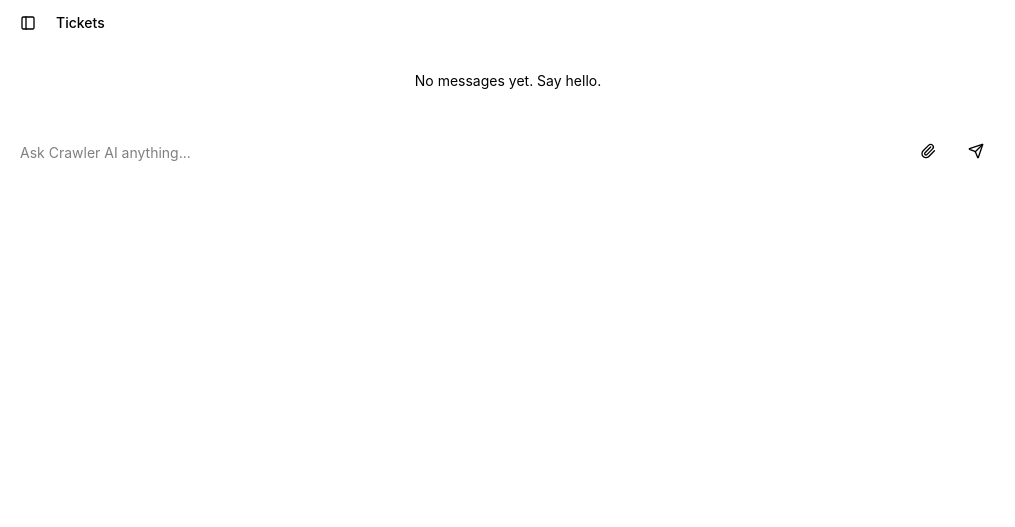
Test: Approval cards on the way to a purchase › shows a browser.act card as its one sentence: no tool line, no JSON, no typed text
The width and height of the screenshot is (1015, 527).
In the text box named "Message": (460, 153) [20,135,900,171], type "Buy a $5 ticket on shop.example.com"
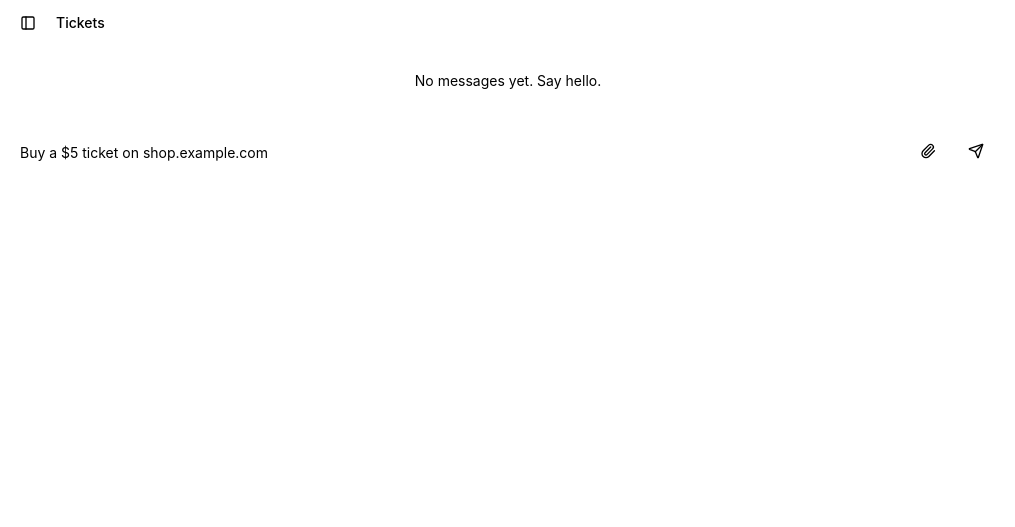
Press Enter in the text box named "Message", box [20,135,900,171]
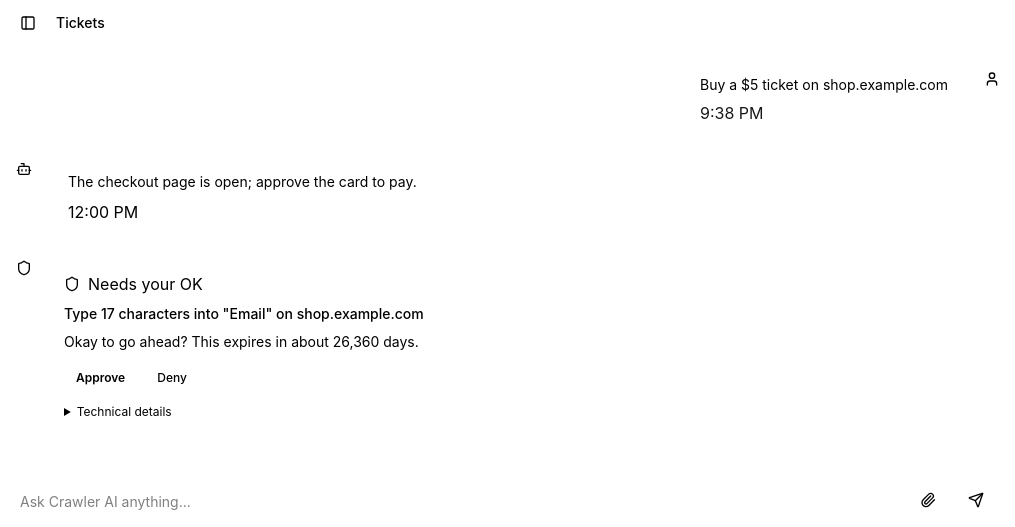
expect the text "Type 17 characters into \"Email\" on shop.example.com" is shown: met, box [64,305,424,322]
expect the button "Approve" is shown: met, box [64,360,137,396]
